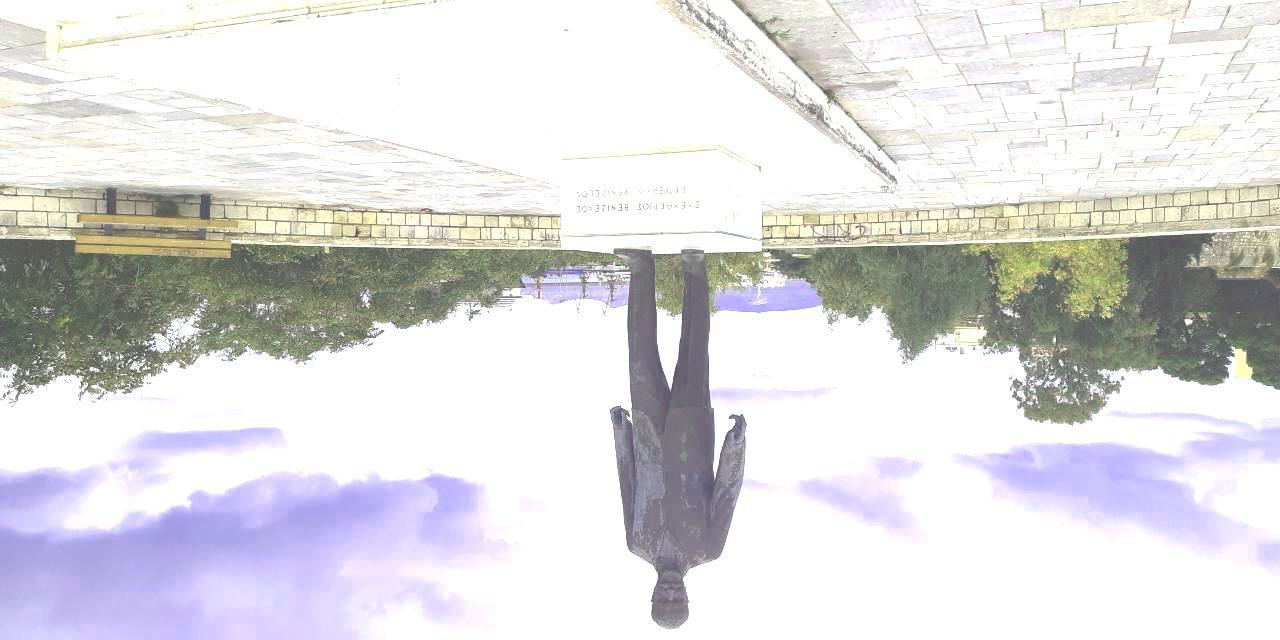Venizelos: (607, 243, 751, 631)
